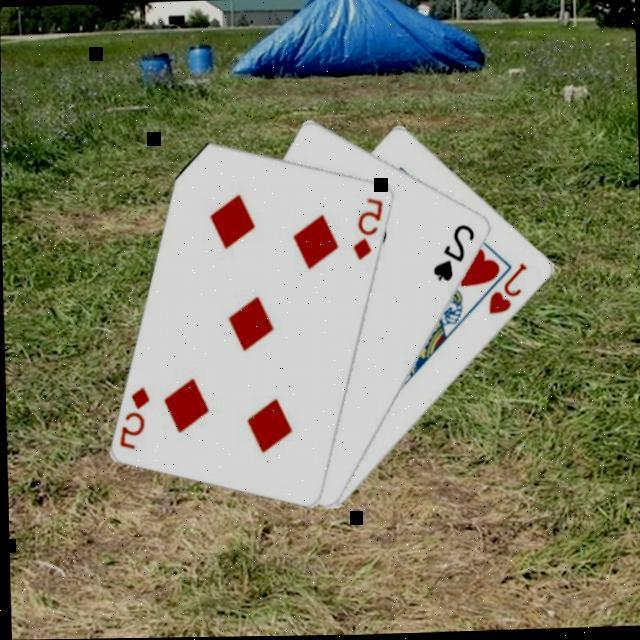2S: (428, 218, 479, 284)
5D: (349, 192, 388, 262), (115, 380, 154, 450)
JH: (484, 258, 532, 316)
